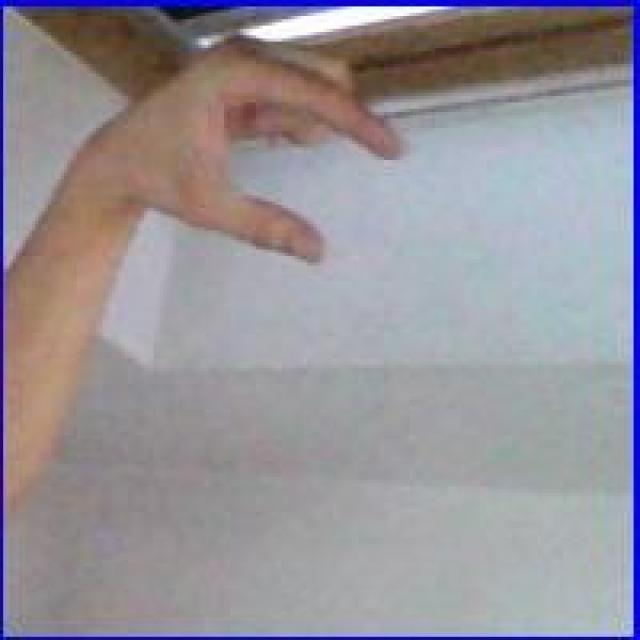Q: (132, 27, 418, 274)
